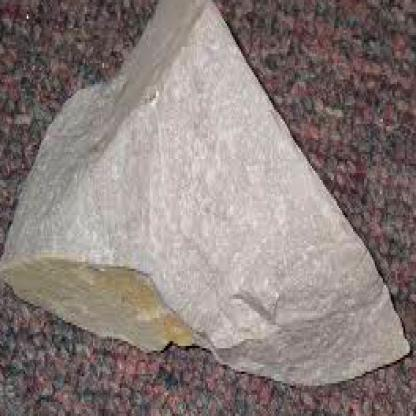Metamorphic_Quartize: (2, 0, 411, 386)
